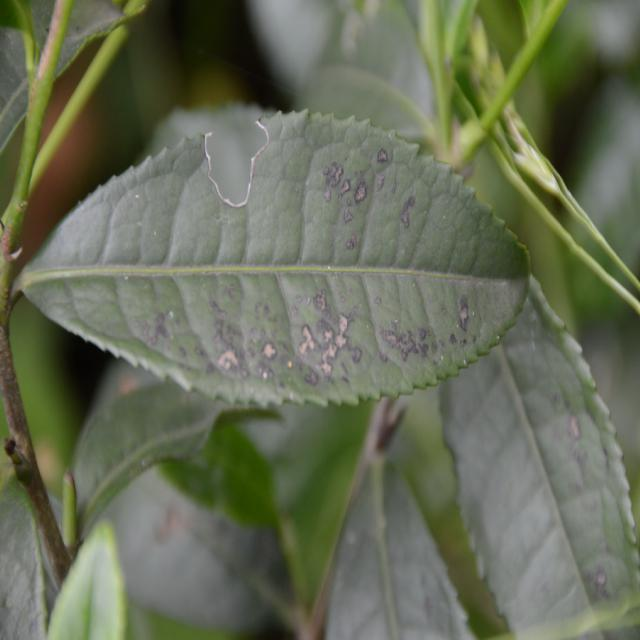Tea algae leaf spot: (100, 132, 508, 396)
